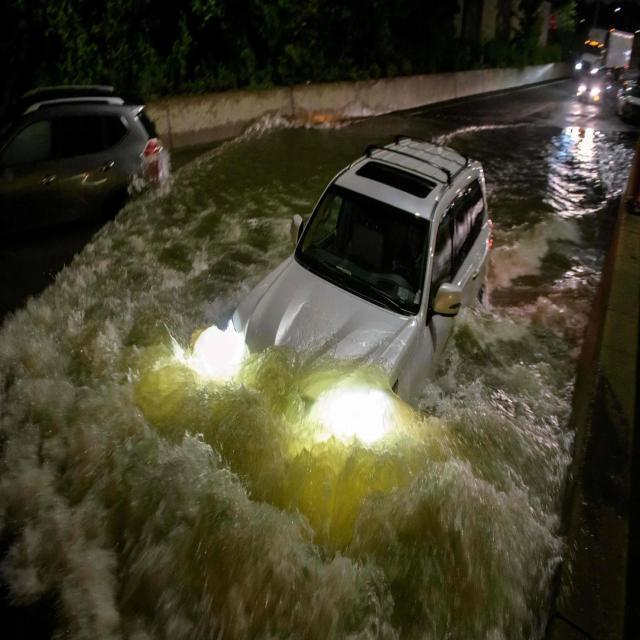water: (0, 245, 610, 636), (4, 113, 636, 326)
